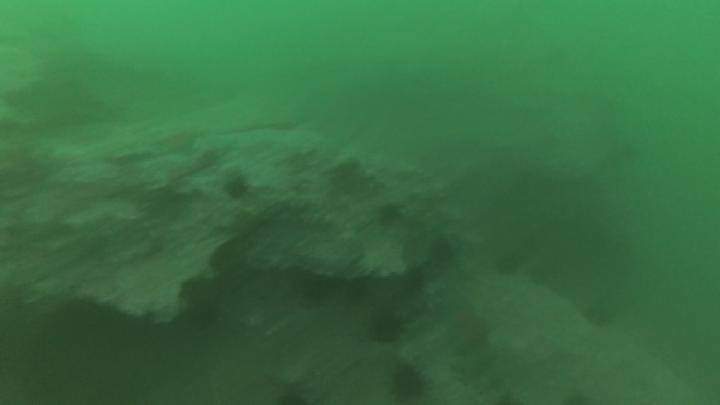echinus: (386, 360, 429, 403), (365, 307, 407, 346), (579, 297, 617, 331), (425, 234, 458, 269), (221, 171, 252, 203), (491, 251, 523, 280), (374, 200, 405, 229)
starfish: (441, 299, 492, 356), (156, 125, 204, 160)
